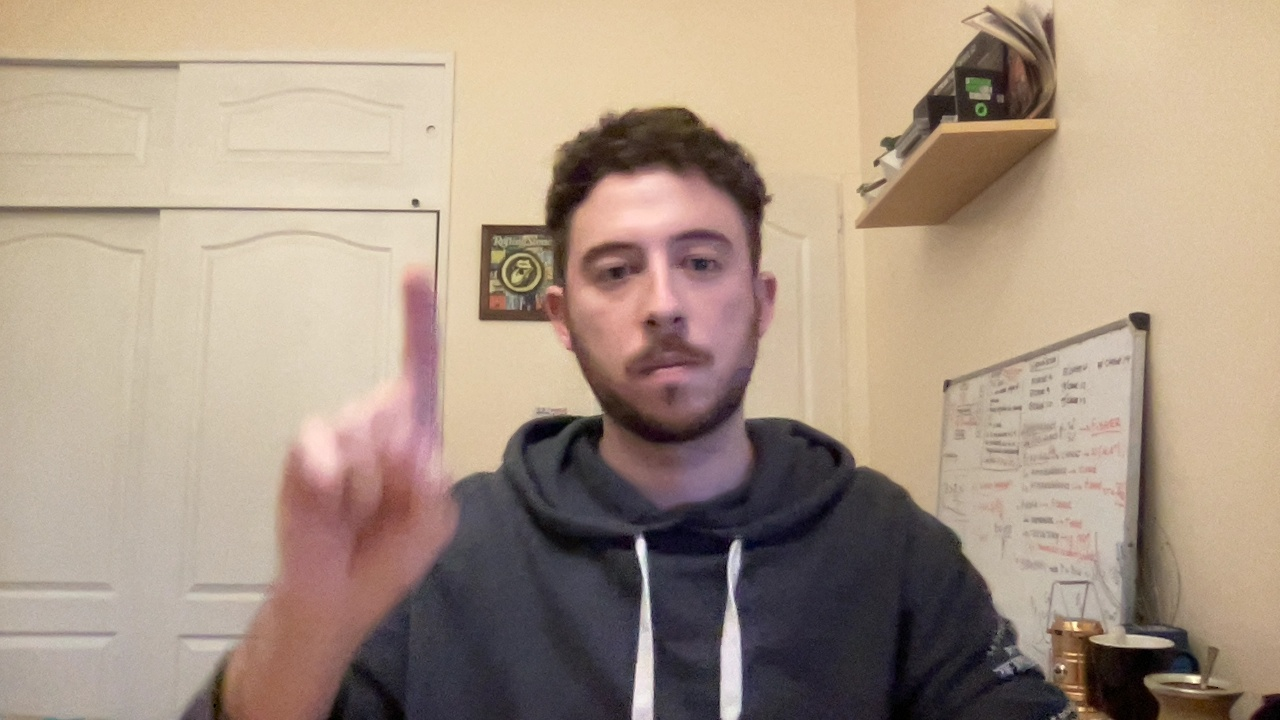indice: (229, 264, 496, 626)
